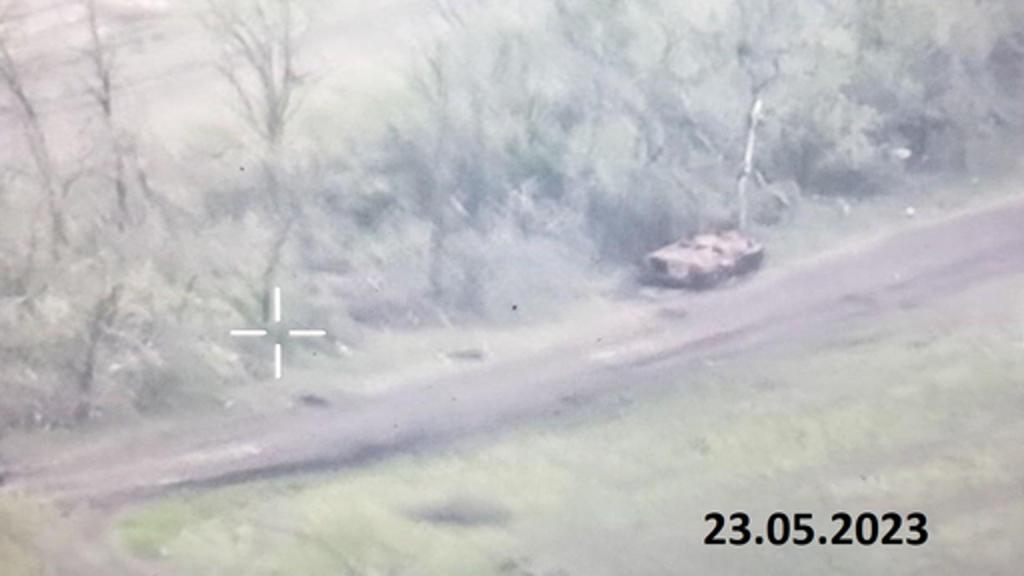APC-IFV: (636, 202, 774, 292)
